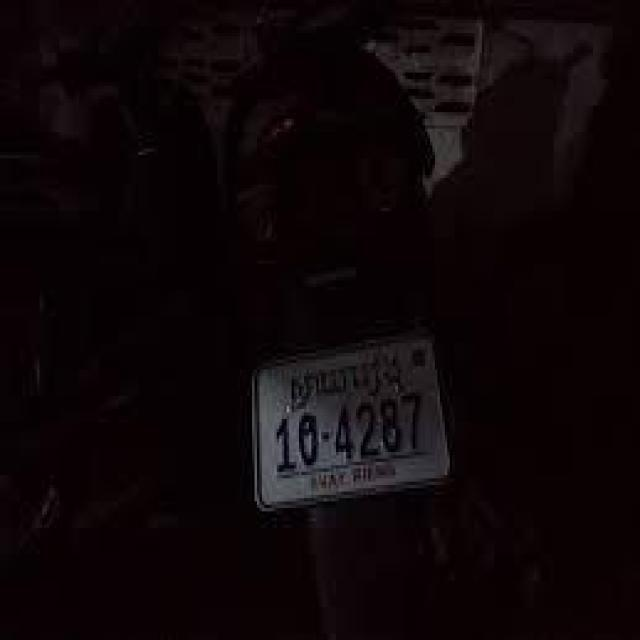Svay_Rieng: (289, 353, 402, 410)
